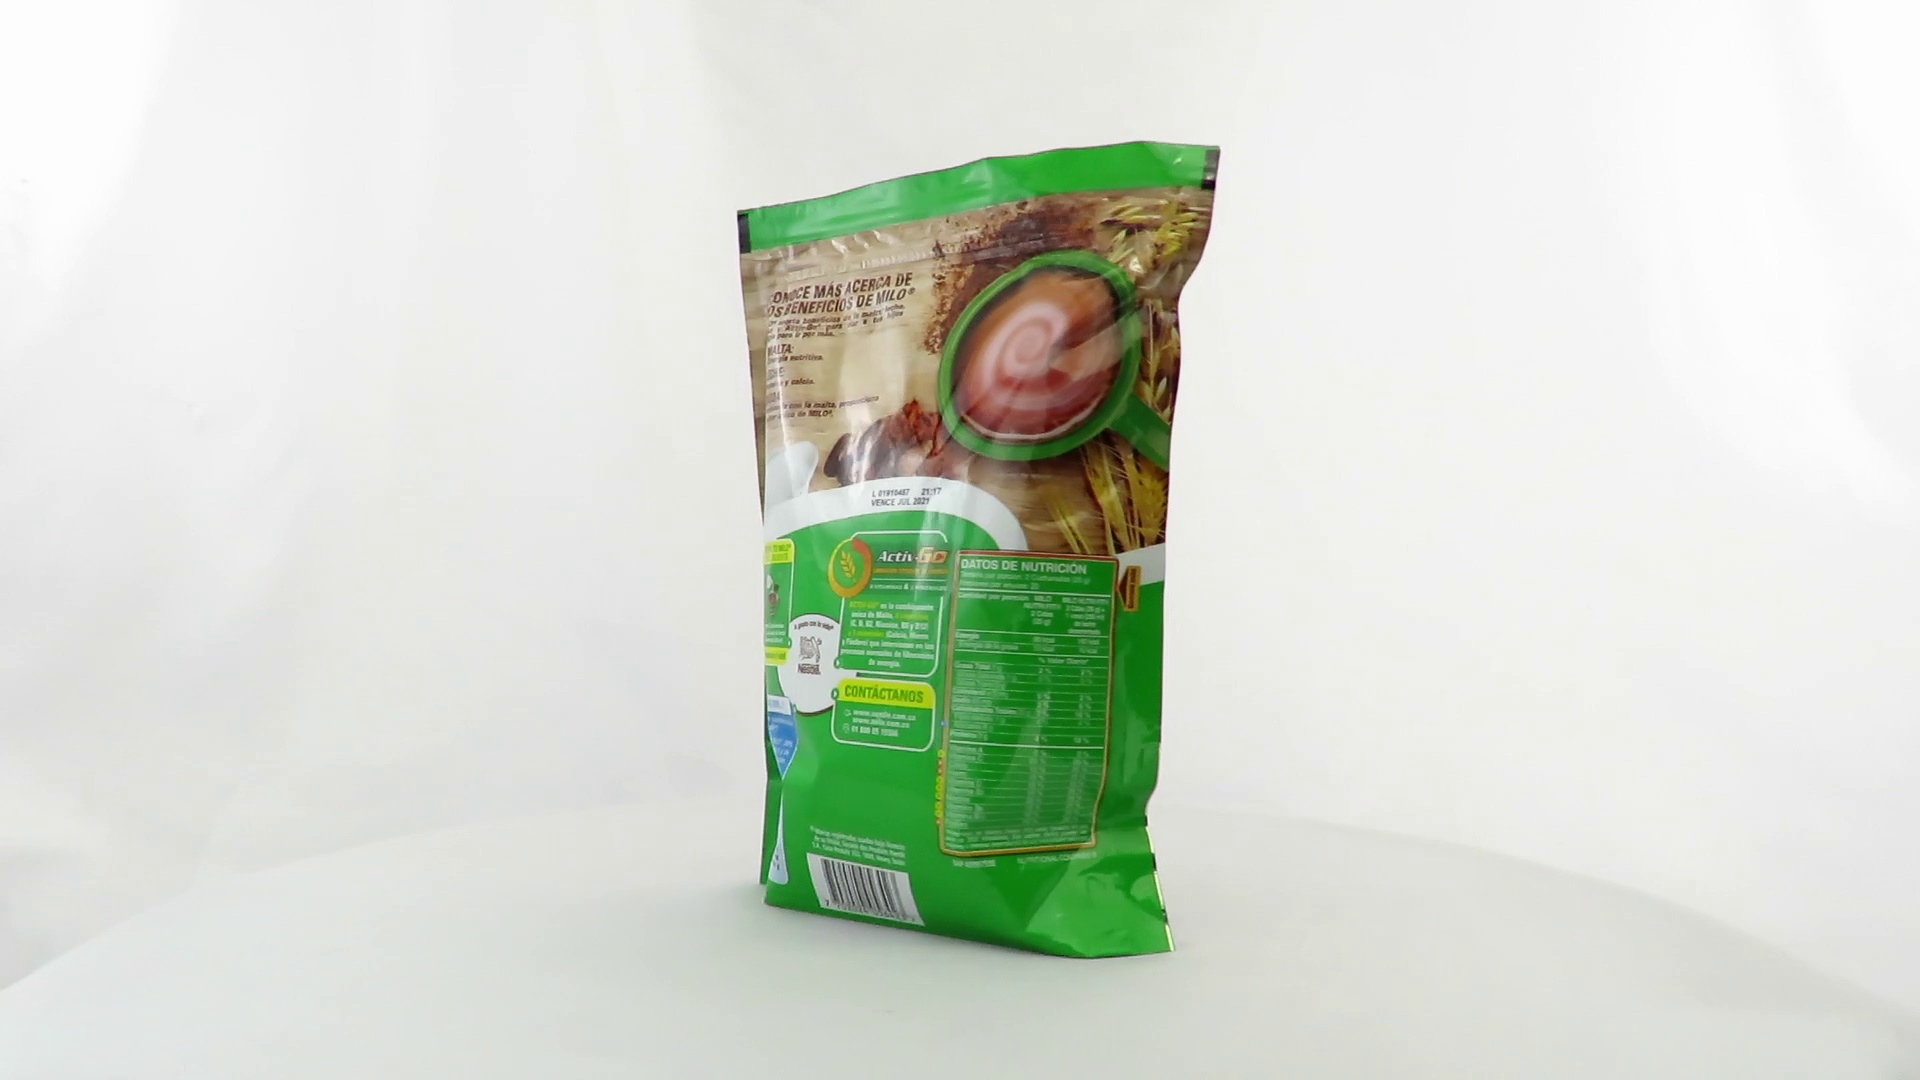COL0170205DYP50000: (732, 135, 1226, 967)
